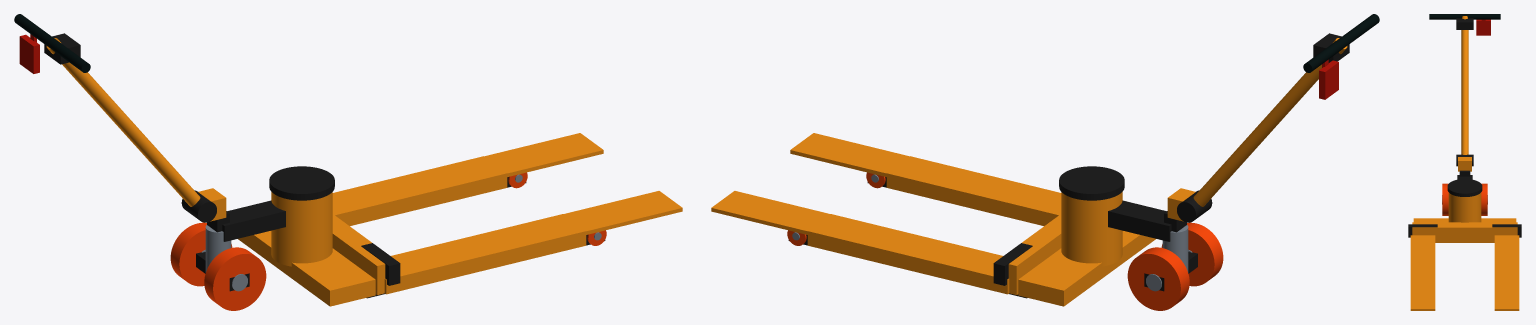
The picture shows the model from 3 angles, left to right: view 1: azimuth 30°, elevation 25°; view 2: azimuth 150°, elevation 25°; view 3: azimuth 270°, elevation 25°; orthographic projection. The views are drawn at different scales.
Parts seen in each view (by area): view 1: /Asset/Links/lifting_fork_carriage/Visuals/right_fork_deck/G, /Asset/Links/lifting_fork_carriage/Visuals/left_fork_deck/Ge, /Asset/Links/chassis_and_hydraulics/Visuals/rear_crossmember, /Asset/Links/chassis_and_hydraulics/Visuals/hydraulic_pump_h, /Asset/Links/right_steer_wheel/Visuals/right_steer_tire/Geom, /Asset/Links/pivoting_steering_handle/Visuals/drawbar_tube/G, /Asset/Links/lifting_fork_carriage/Visuals/right_low_entry_n, /Asset/Links/lifting_fork_carriage/Visuals/left_low_entry_no, /Asset/Links/chassis_and_hydraulics/Visuals/pump_top_cap/Geo, /Asset/Links/lifting_fork_carriage/Visuals/lift_crosshead/Ge, /Asset/Links/chassis_and_hydraulics/Visuals/elevated_steerin, /Asset/Links/left_steer_wheel/Visuals/left_steer_tire/Geom (+7 smaller); view 2: /Asset/Links/lifting_fork_carriage/Visuals/left_fork_deck/Ge, /Asset/Links/lifting_fork_carriage/Visuals/right_fork_deck/G, /Asset/Links/chassis_and_hydraulics/Visuals/rear_crossmember, /Asset/Links/chassis_and_hydraulics/Visuals/hydraulic_pump_h, /Asset/Links/left_steer_wheel/Visuals/left_steer_tire/Geom, /Asset/Links/lifting_fork_carriage/Visuals/left_low_entry_no, /Asset/Links/lifting_fork_carriage/Visuals/right_low_entry_n, /Asset/Links/pivoting_steering_handle/Visuals/drawbar_tube/G, /Asset/Links/chassis_and_hydraulics/Visuals/pump_top_cap/Geo, /Asset/Links/lifting_fork_carriage/Visuals/lift_crosshead/Ge, /Asset/Links/chassis_and_hydraulics/Visuals/elevated_steerin, /Asset/Links/right_steer_wheel/Visuals/right_steer_tire/Geom (+6 smaller); view 3: /Asset/Links/lifting_fork_carriage/Visuals/lift_crosshead/Ge, /Asset/Links/lifting_fork_carriage/Visuals/left_fork_deck/Ge, /Asset/Links/lifting_fork_carriage/Visuals/right_fork_deck/G, /Asset/Links/pivoting_steering_handle/Visuals/drawbar_tube/G, /Asset/Links/chassis_and_hydraulics/Visuals/hydraulic_pump_h, /Asset/Links/lifting_fork_carriage/Visuals/left_low_entry_no, /Asset/Links/lifting_fork_carriage/Visuals/right_low_entry_n, /Asset/Links/chassis_and_hydraulics/Visuals/pump_top_cap/Geo, /Asset/Links/pivoting_steering_handle/Visuals/operator_cross, /Asset/Links/chassis_and_hydraulics/Visuals/rear_crossmember, /Asset/Links/control_lever/Visuals/lowering_control_paddle/G, /Asset/Links/left_steer_wheel/Visuals/left_steer_tire/Geom (+5 smaller).
Boxes of the visible parts, bbox=[...] form: /Asset/Links/lifting_fork_carriage/Visuals/right_fork_deck/G: bbox=[384, 214, 586, 294]; /Asset/Links/lifting_fork_carriage/Visuals/left_fork_deck/Ge: bbox=[332, 156, 507, 225]; /Asset/Links/chassis_and_hydraulics/Visuals/rear_crossmember: bbox=[238, 231, 375, 306]; /Asset/Links/chassis_and_hydraulics/Visuals/hydraulic_pump_h: bbox=[271, 192, 332, 266]; /Asset/Links/right_steer_wheel/Visuals/right_steer_tire/Geom: bbox=[204, 247, 266, 310]; /Asset/Links/pivoting_steering_handle/Visuals/drawbar_tube/G: bbox=[46, 38, 200, 206]; /Asset/Links/lifting_fork_carriage/Visuals/right_low_entry_n: bbox=[563, 191, 682, 234]; /Asset/Links/lifting_fork_carriage/Visuals/left_low_entry_no: bbox=[485, 133, 603, 176]; /Asset/Links/chassis_and_hydraulics/Visuals/pump_top_cap/Geo: bbox=[269, 166, 334, 200]; /Asset/Links/lifting_fork_carriage/Visuals/lift_crosshead/Ge: bbox=[332, 214, 385, 295]; /Asset/Links/chassis_and_hydraulics/Visuals/elevated_steerin: bbox=[222, 200, 285, 241]; /Asset/Links/left_steer_wheel/Visuals/left_steer_tire/Geom: bbox=[170, 222, 232, 286]; /Asset/Links/lifting_fork_carriage/Visuals/left_fork_deck/Ge: bbox=[807, 214, 1009, 294]; /Asset/Links/lifting_fork_carriage/Visuals/right_fork_deck/G: bbox=[886, 156, 1061, 225]; /Asset/Links/chassis_and_hydraulics/Visuals/rear_crossmember: bbox=[1018, 231, 1155, 306]; /Asset/Links/chassis_and_hydraulics/Visuals/hydraulic_pump_h: bbox=[1061, 192, 1122, 266]; /Asset/Links/left_steer_wheel/Visuals/left_steer_tire/Geom: bbox=[1127, 247, 1189, 310]; /Asset/Links/lifting_fork_carriage/Visuals/left_low_entry_no: bbox=[711, 191, 830, 234]; /Asset/Links/lifting_fork_carriage/Visuals/right_low_entry_n: bbox=[790, 133, 908, 176]; /Asset/Links/pivoting_steering_handle/Visuals/drawbar_tube/G: bbox=[1193, 38, 1347, 206]; /Asset/Links/chassis_and_hydraulics/Visuals/pump_top_cap/Geo: bbox=[1059, 166, 1124, 200]; /Asset/Links/lifting_fork_carriage/Visuals/lift_crosshead/Ge: bbox=[1008, 214, 1061, 295]; /Asset/Links/chassis_and_hydraulics/Visuals/elevated_steerin: bbox=[1108, 200, 1171, 241]; /Asset/Links/right_steer_wheel/Visuals/right_steer_tire/Geom: bbox=[1161, 222, 1223, 286]; /Asset/Links/lifting_fork_carriage/Visuals/lift_crosshead/Ge: bbox=[1412, 222, 1517, 242]; /Asset/Links/lifting_fork_carriage/Visuals/left_fork_deck/Ge: bbox=[1494, 235, 1519, 283]; /Asset/Links/lifting_fork_carriage/Visuals/right_fork_deck/G: bbox=[1410, 235, 1435, 283]; /Asset/Links/pivoting_steering_handle/Visuals/drawbar_tube/G: bbox=[1461, 16, 1468, 154]; /Asset/Links/chassis_and_hydraulics/Visuals/hydraulic_pump_h: bbox=[1448, 192, 1481, 222]; /Asset/Links/lifting_fork_carriage/Visuals/left_low_entry_no: bbox=[1494, 284, 1519, 310]; /Asset/Links/lifting_fork_carriage/Visuals/right_low_entry_n: bbox=[1410, 284, 1435, 310]; /Asset/Links/chassis_and_hydraulics/Visuals/pump_top_cap/Geo: bbox=[1447, 179, 1482, 196]; /Asset/Links/pivoting_steering_handle/Visuals/operator_cross: bbox=[1429, 14, 1500, 19]; /Asset/Links/chassis_and_hydraulics/Visuals/rear_crossmember: bbox=[1413, 218, 1516, 222]; /Asset/Links/control_lever/Visuals/lowering_control_paddle/G: bbox=[1476, 19, 1490, 35]; /Asset/Links/left_steer_wheel/Visuals/left_steer_tire/Geom: bbox=[1481, 183, 1487, 215].
Size of the model in its own units: 2.32 by 1.12 by 0.73.
